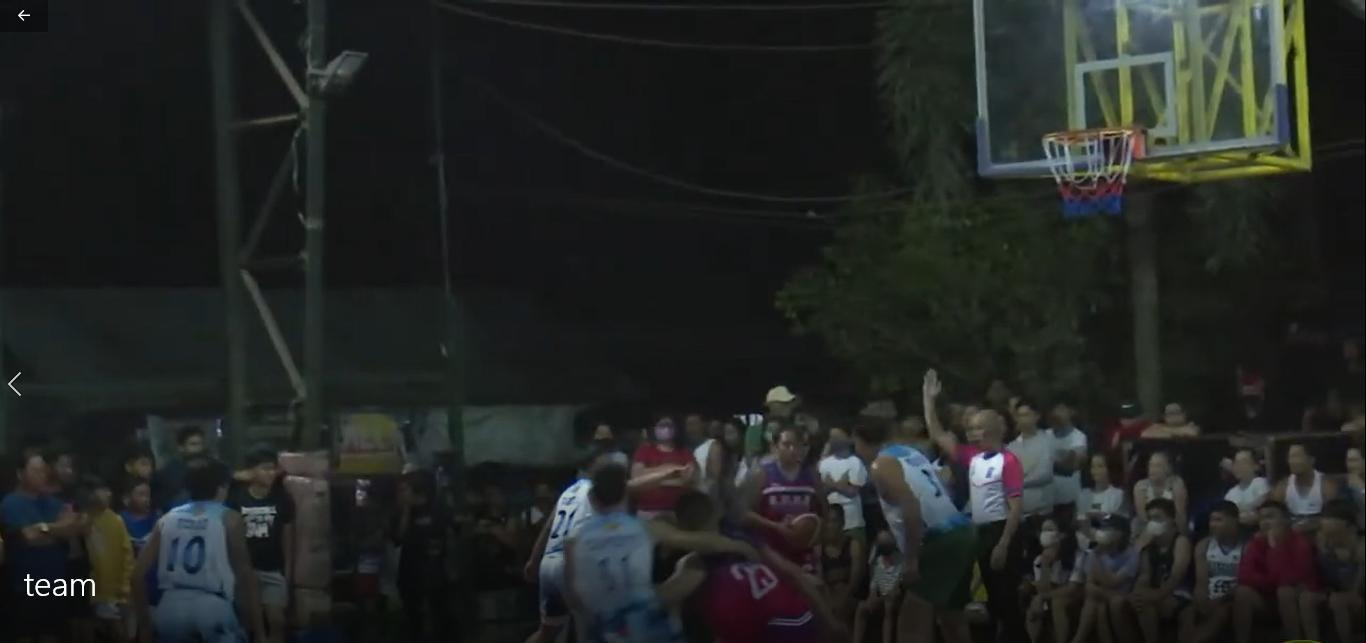ball: (775, 508, 832, 551)
human: (842, 407, 980, 643), (920, 360, 1030, 643), (127, 450, 274, 643), (668, 488, 840, 643), (555, 453, 675, 643), (737, 410, 814, 520)
rim: (1038, 118, 1140, 226)
